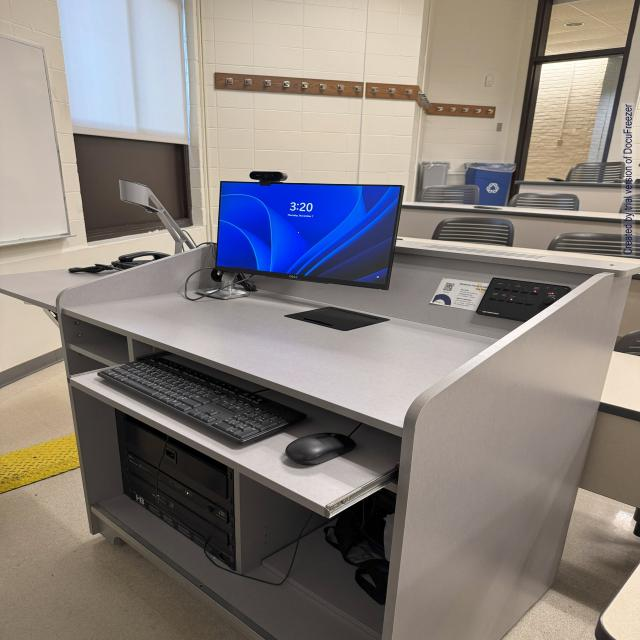Table: (2, 229, 640, 640)
